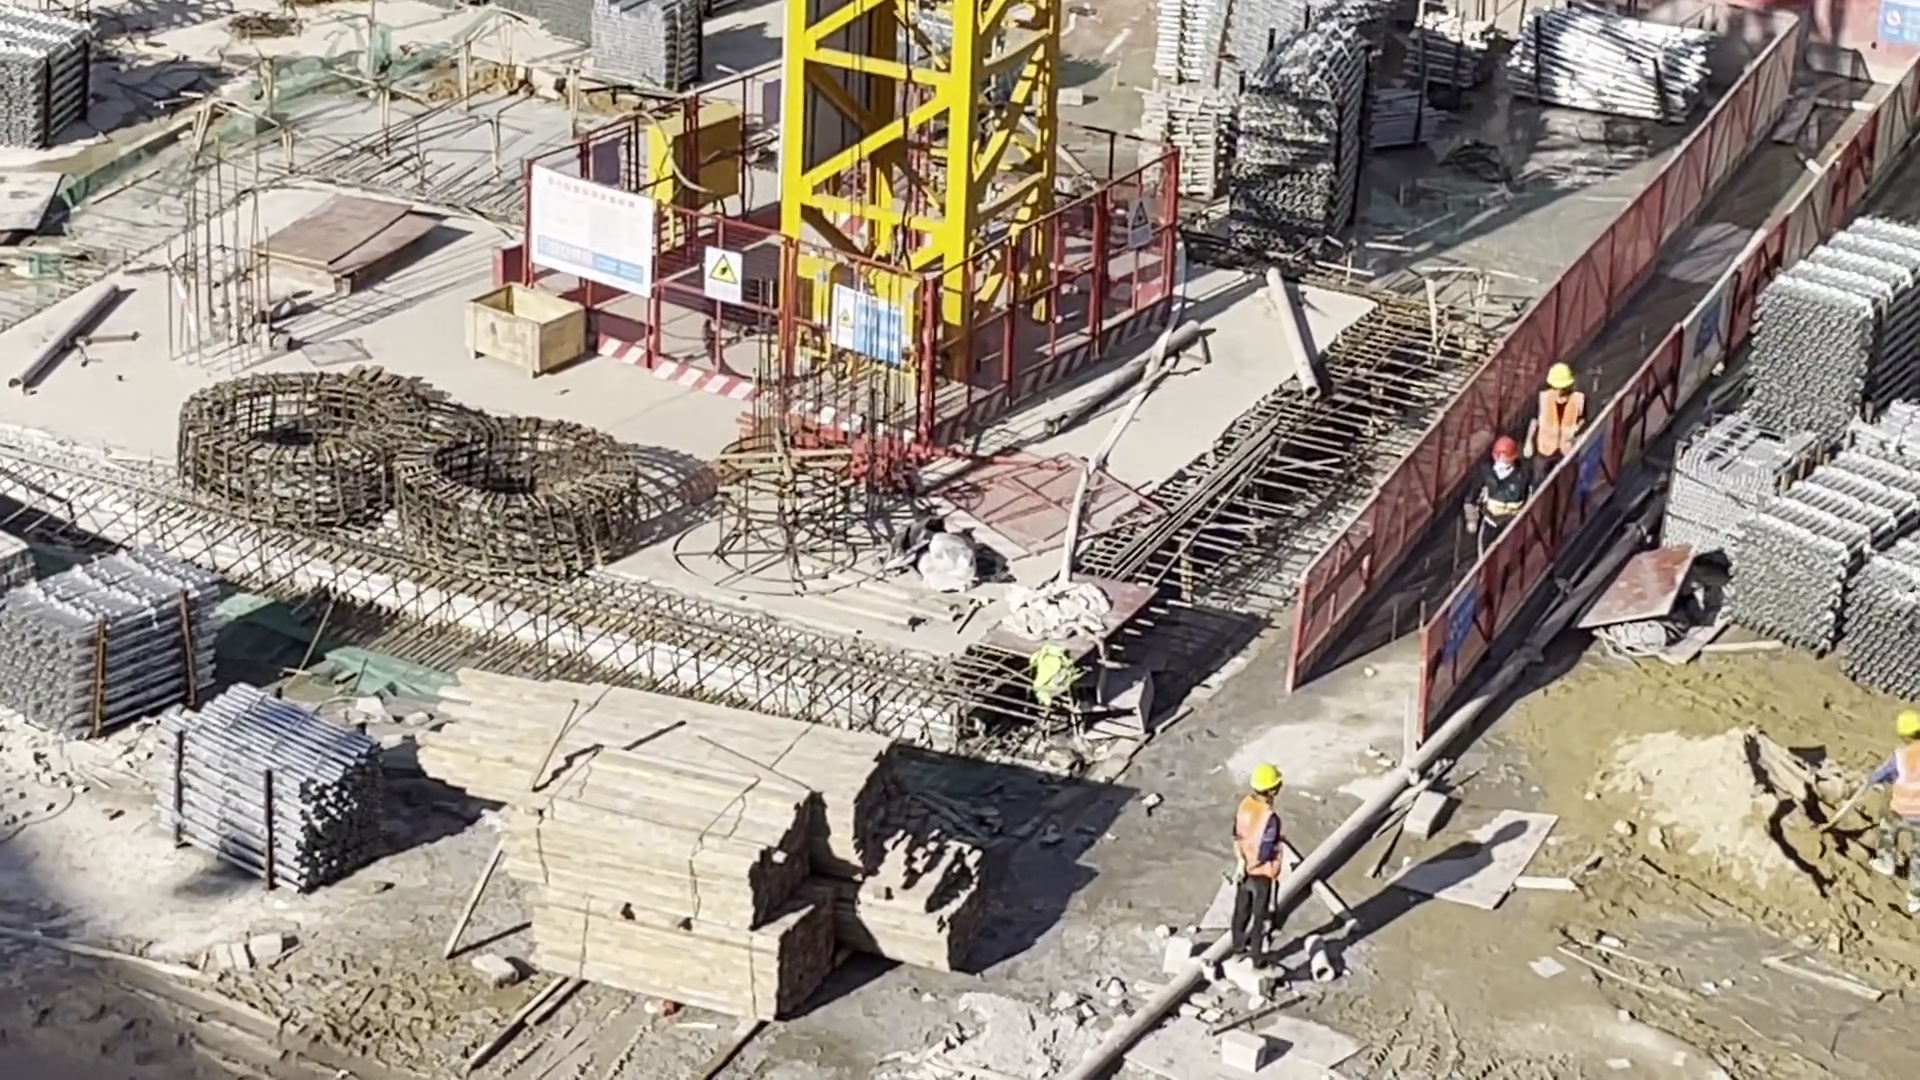board: (273, 204, 429, 291)
ebox: (651, 104, 744, 200)
fence: (1296, 20, 1920, 697)
helmet: (1490, 435, 1521, 464), (1252, 765, 1281, 791), (1548, 364, 1575, 389), (1897, 712, 1920, 739)
person: (1229, 765, 1279, 969), (1475, 438, 1531, 560), (1533, 364, 1586, 492), (1881, 714, 1920, 883)
scaffold: (1140, 4, 1359, 230), (1738, 445, 1920, 706), (167, 689, 383, 895), (6, 553, 221, 733), (1750, 218, 1920, 427), (1516, 15, 1709, 114), (1, 8, 96, 145), (585, 1, 706, 87), (1410, 6, 1495, 89)
slogan: (828, 288, 904, 365), (1446, 581, 1479, 656), (702, 245, 739, 300), (1879, 4, 1920, 44), (1581, 429, 1602, 496), (1129, 197, 1154, 250)
vest: (1238, 799, 1278, 872), (1540, 388, 1584, 453), (1890, 749, 1920, 817)
wood: (524, 756, 838, 1022), (446, 672, 894, 858)
